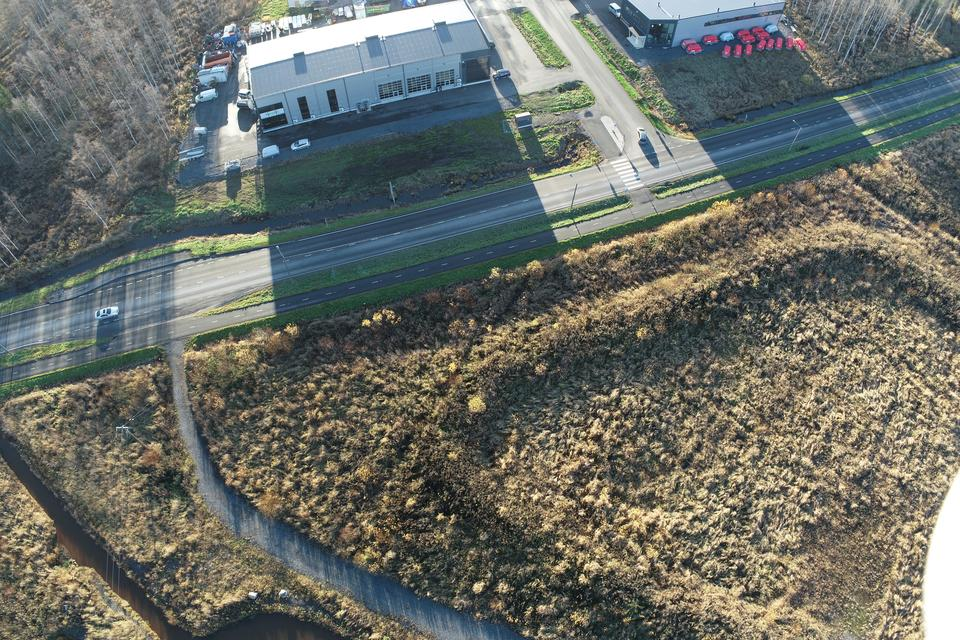intersection: (580, 110, 702, 249), (140, 238, 204, 382)
